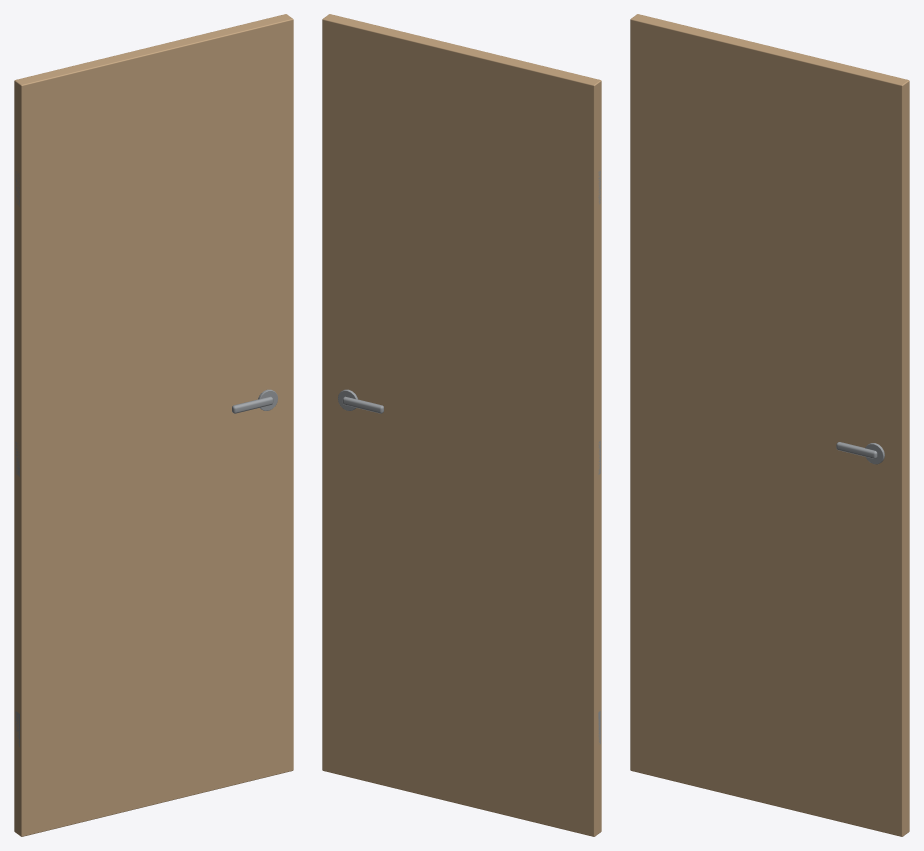
File: original-door-flush.glb
3 renders of one model, left to right at view 1: azimuth 30°, elevation 25°; view 2: azimuth 150°, elevation 25°; view 3: azimuth 330°, elevation 25°, orthographic.
Visible parts, largest first — view 1: original-door-flush; view 2: original-door-flush; view 3: original-door-flush.
Part boxes in pixels (<box>): original-door-flush: <box>14,14,293,836</box>; original-door-flush: <box>322,14,601,836</box>; original-door-flush: <box>630,14,909,836</box>.
Bounding box in the file's own units: 0.755 × 1.99 × 0.07.
